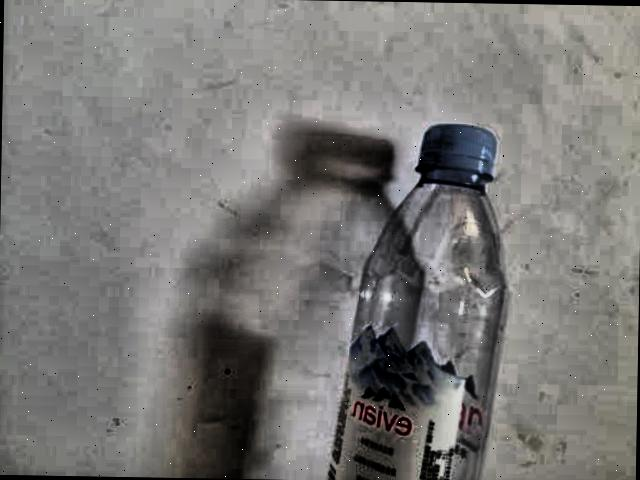Bottles: (295, 100, 551, 480)
